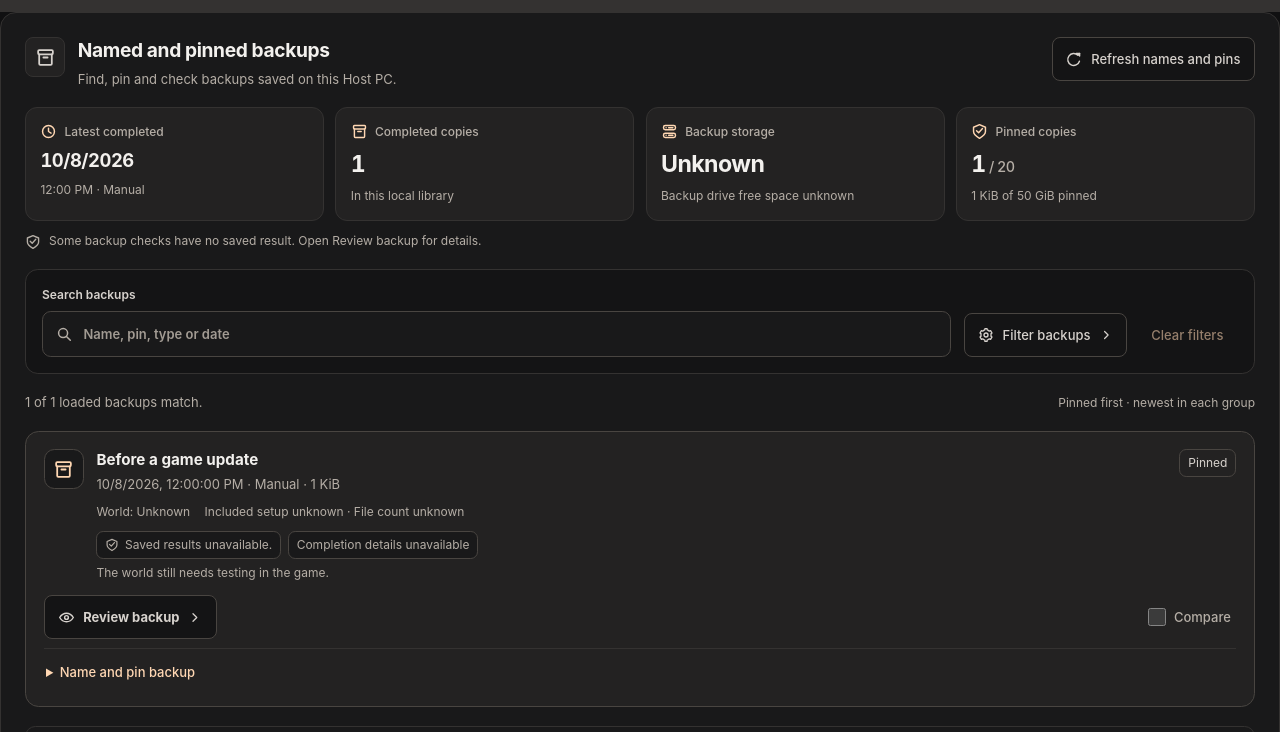
Test case: BackupBookmarks › rejects unsafe names locally and keeps a pin visible after a storage or capacity denial
Check: the text "Before a game update" is shown, box [96,450,258,469]
Click the heading "Name and pin backup" at (127, 672), box [60,664,195,680]
(page scrolled)
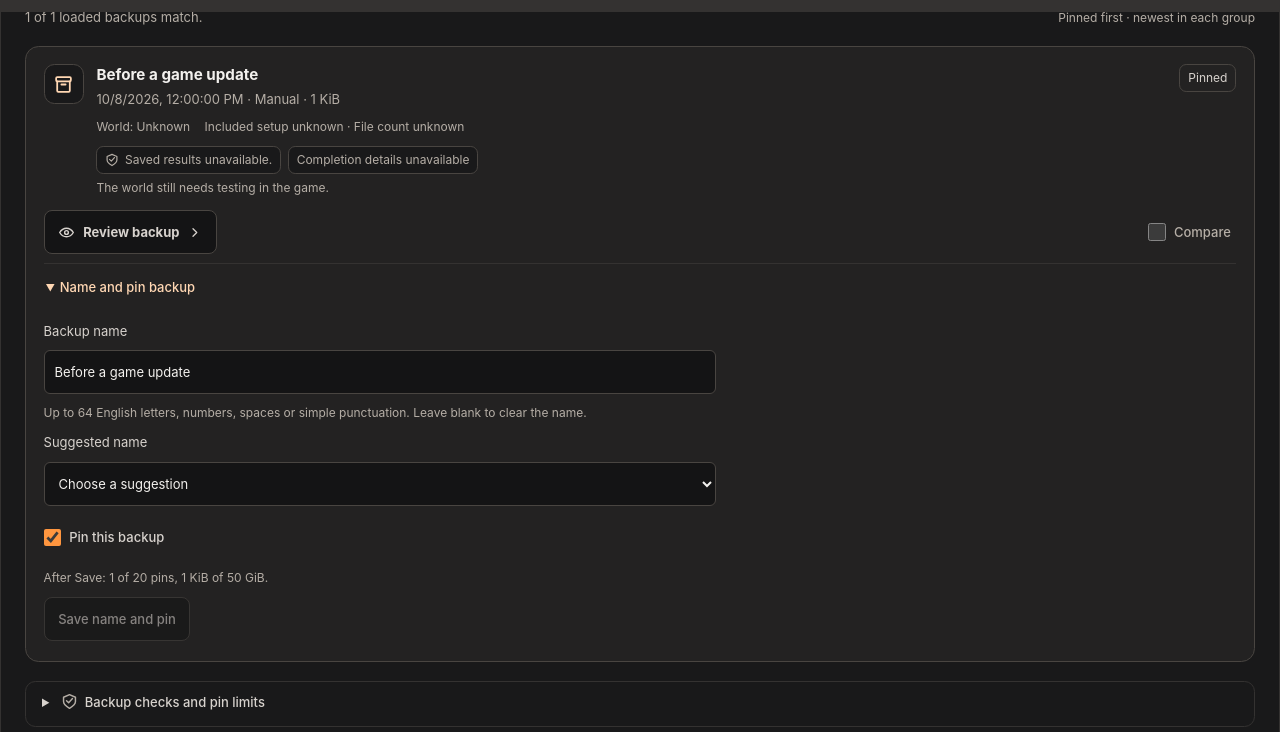
Type "../private" into the field labelled "Backup name" at (380, 372), box [44,350,716,394]
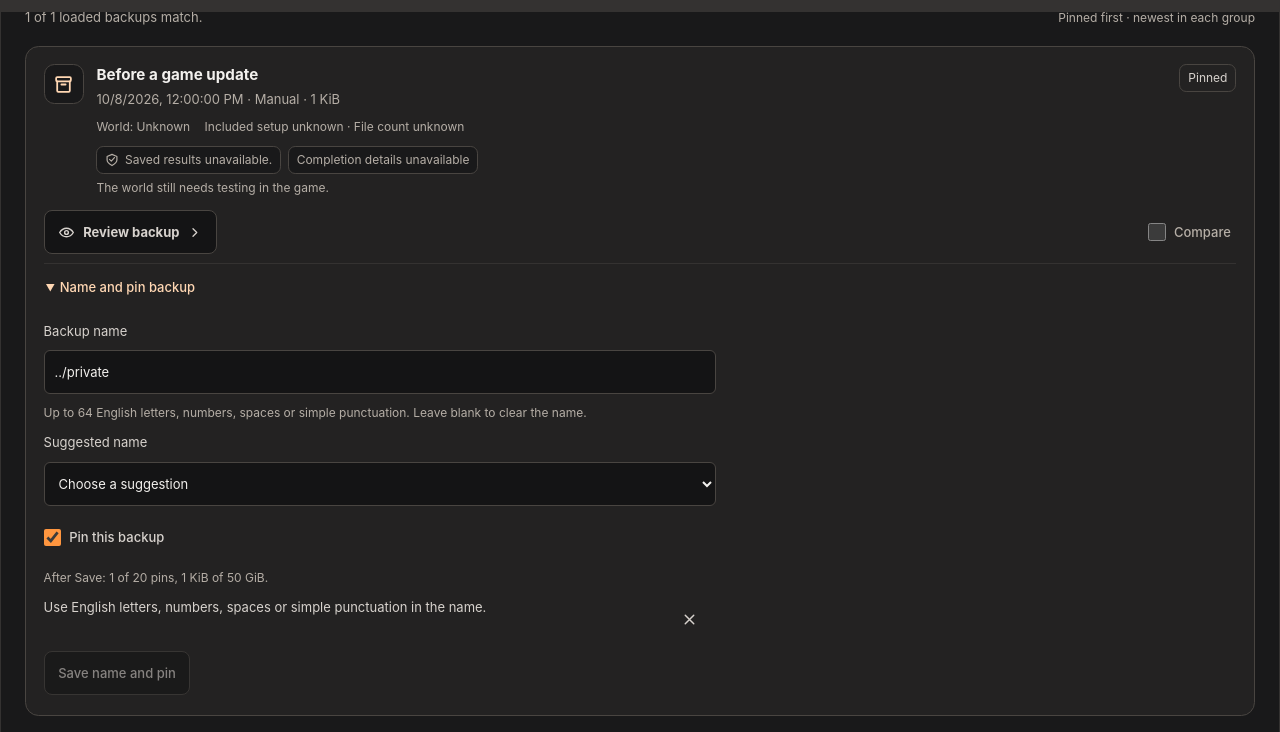
Check: the button "Save name and pin" is disabled, box [44,651,190,695]
Replace the text in the field labelled "Backup name" with "New safe name" at (380, 372), box [44,350,716,394]
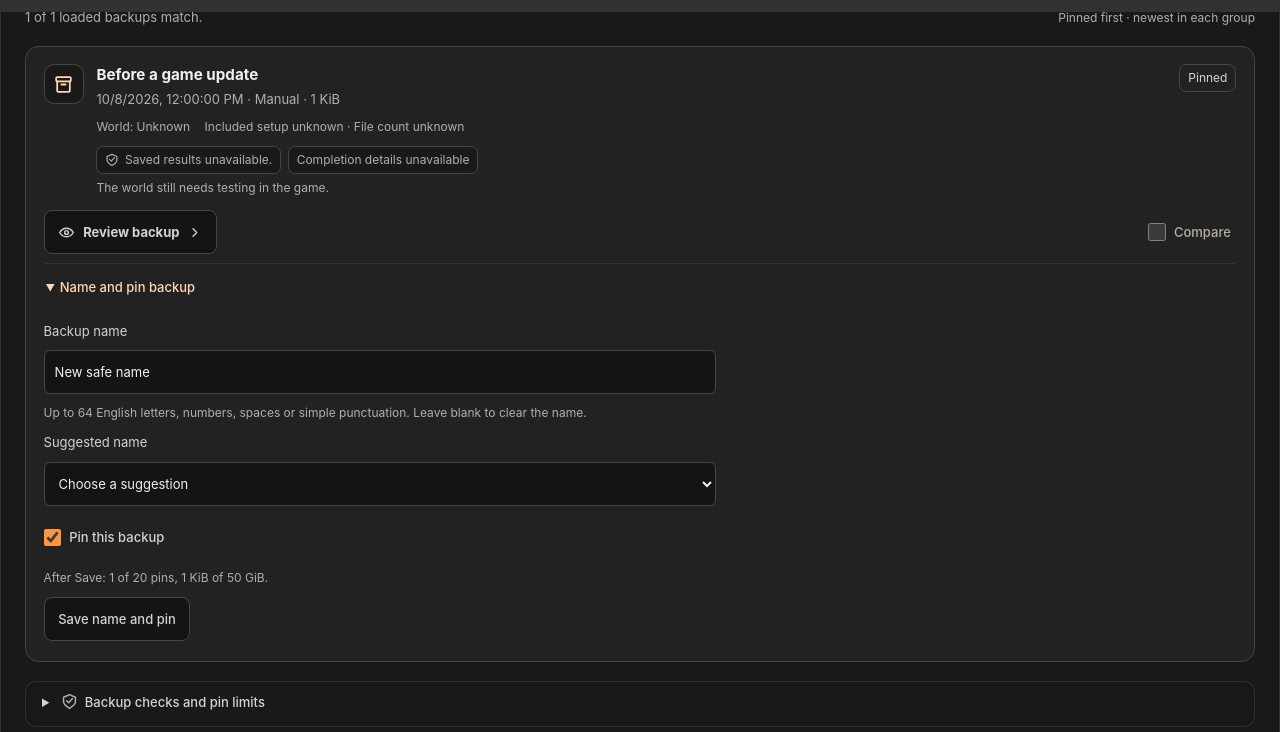
Click the button "Save name and pin" at (117, 619), box [44,597,190,641]
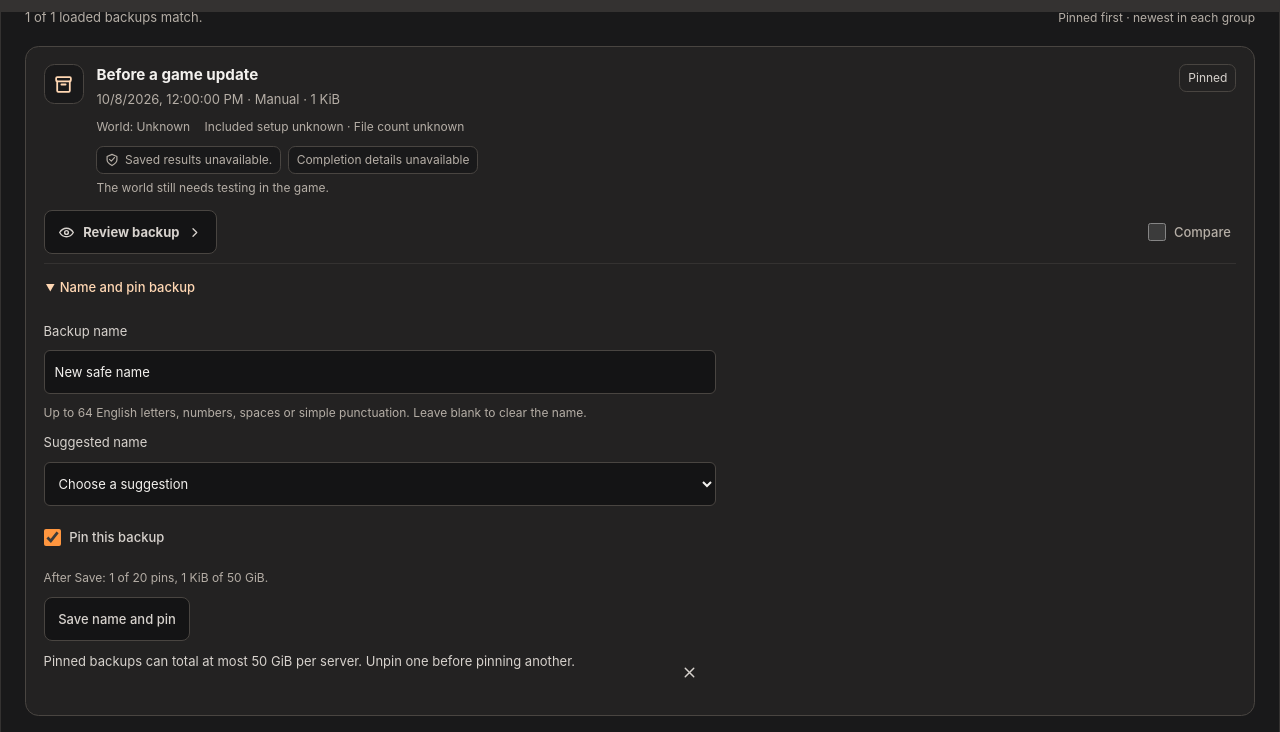
Check: the text "Pinned" is shown, box [1179,64,1236,92]
Check: the message shows "at most 50 GiB", box [44,653,575,669]
